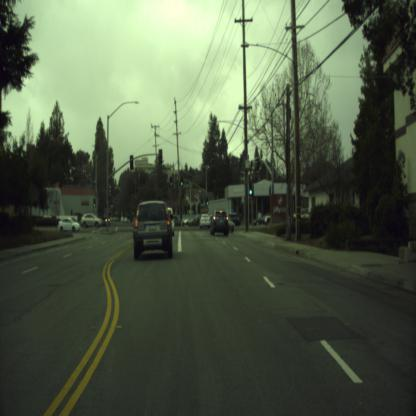Green: (249, 181, 252, 195), (180, 176, 182, 186), (206, 196, 208, 204)
GreenLeft: (170, 176, 172, 186), (93, 198, 95, 207)
